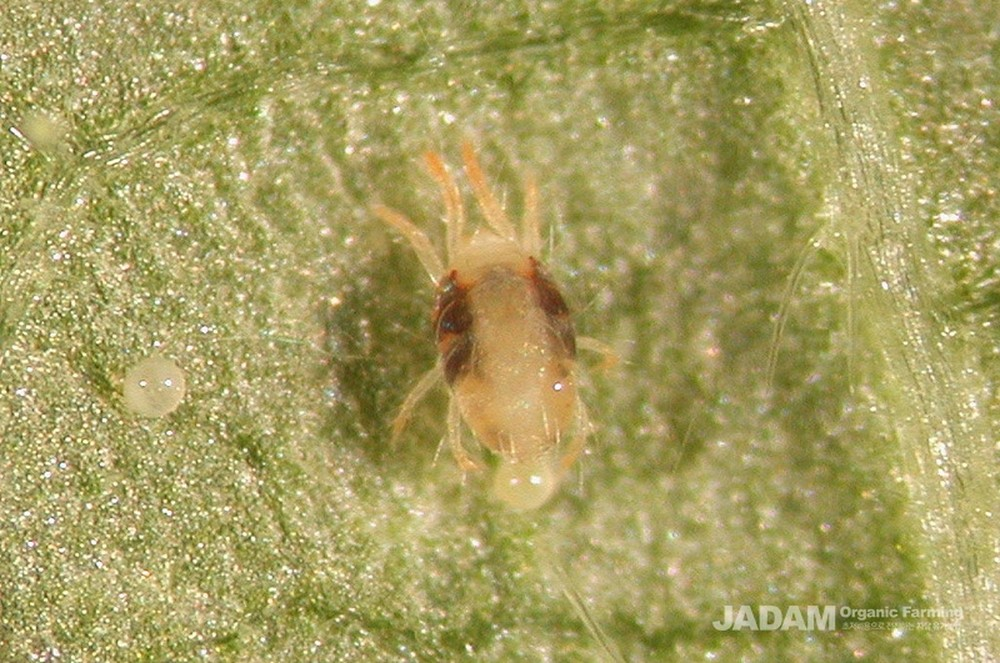Aracnido Rojo: (354, 132, 639, 513)
